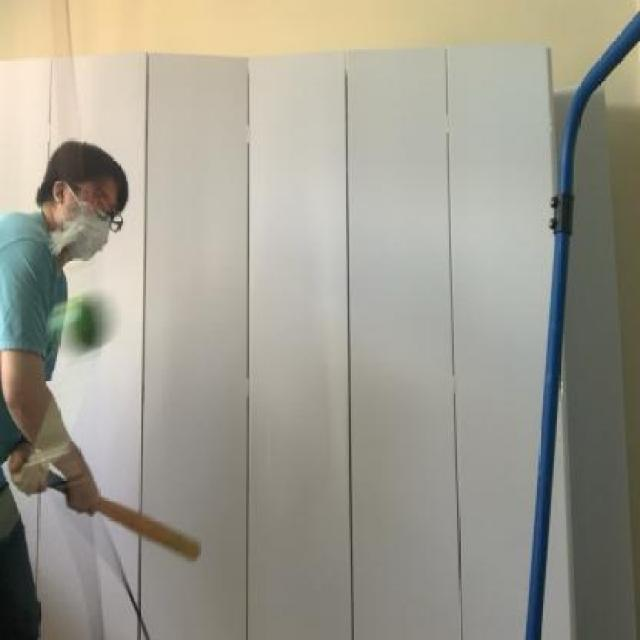baseball: (44, 282, 114, 360)
